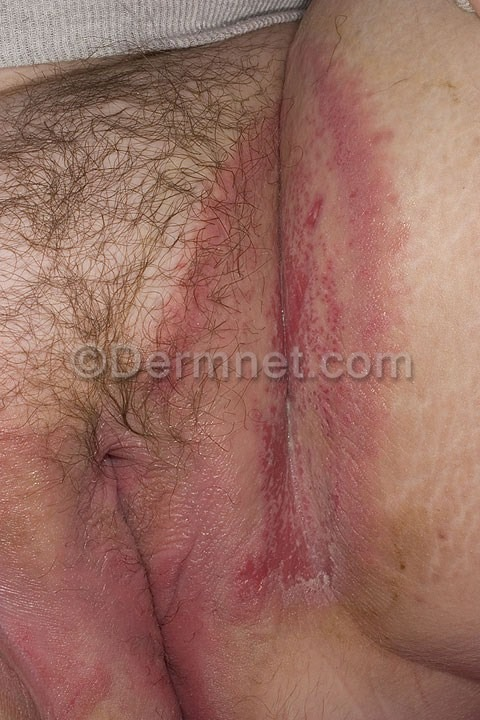Psoriasis: (172, 61, 420, 616), (10, 532, 178, 694)
